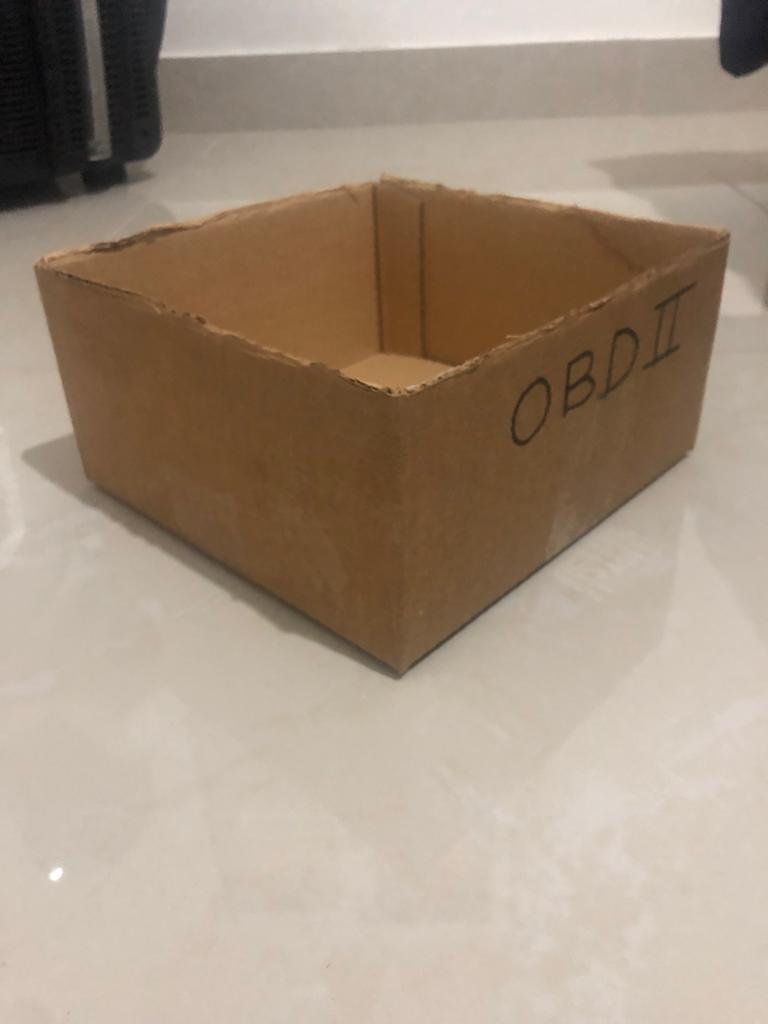CBox: (29, 167, 741, 691)
